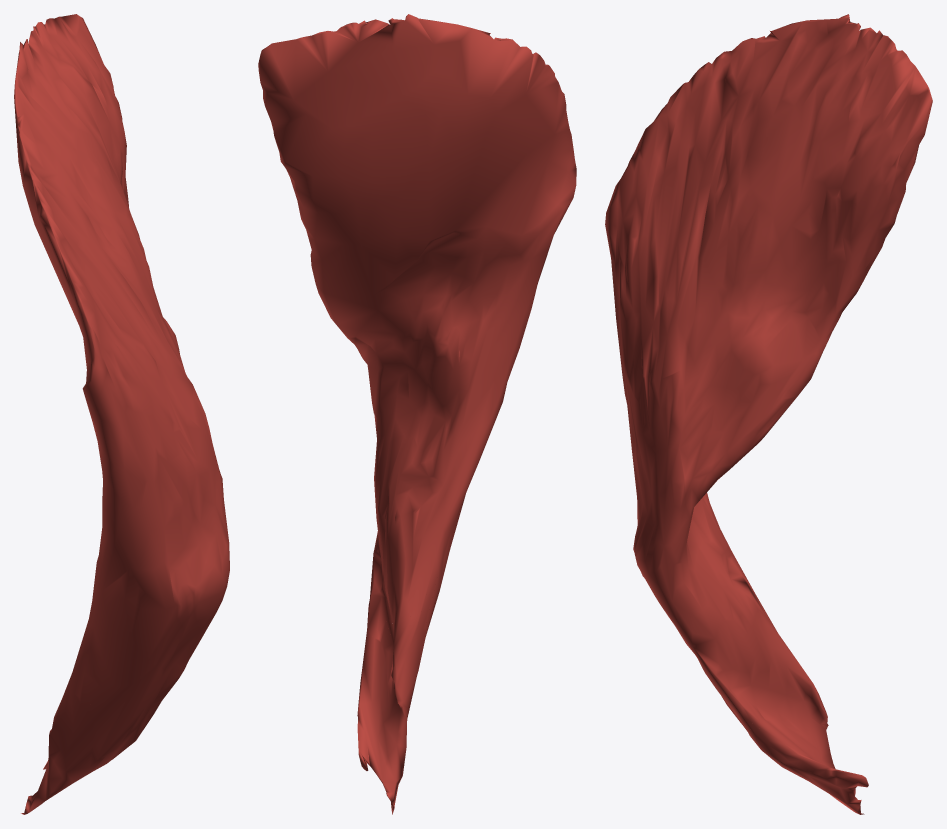
Rendered from musculos-iliacus-muscle-r.glb.
3 views of the same model, side by side, from view 1: azimuth 30°, elevation 25°; view 2: azimuth 150°, elevation 25°; view 3: azimuth 270°, elevation 25° (orthographic). The views are drawn at different scales.
Parts seen in each view (by area): view 1: Iliacus muscle.r; view 2: Iliacus muscle.r; view 3: Iliacus muscle.r.
Boxes of the visible parts, x1,y1,x2,y2 form: Iliacus muscle.r: (14,14,229,814); Iliacus muscle.r: (258,14,576,814); Iliacus muscle.r: (605,14,932,814).
Bounding box in the file's own units: 0.0561 × 0.231 × 0.0862.
